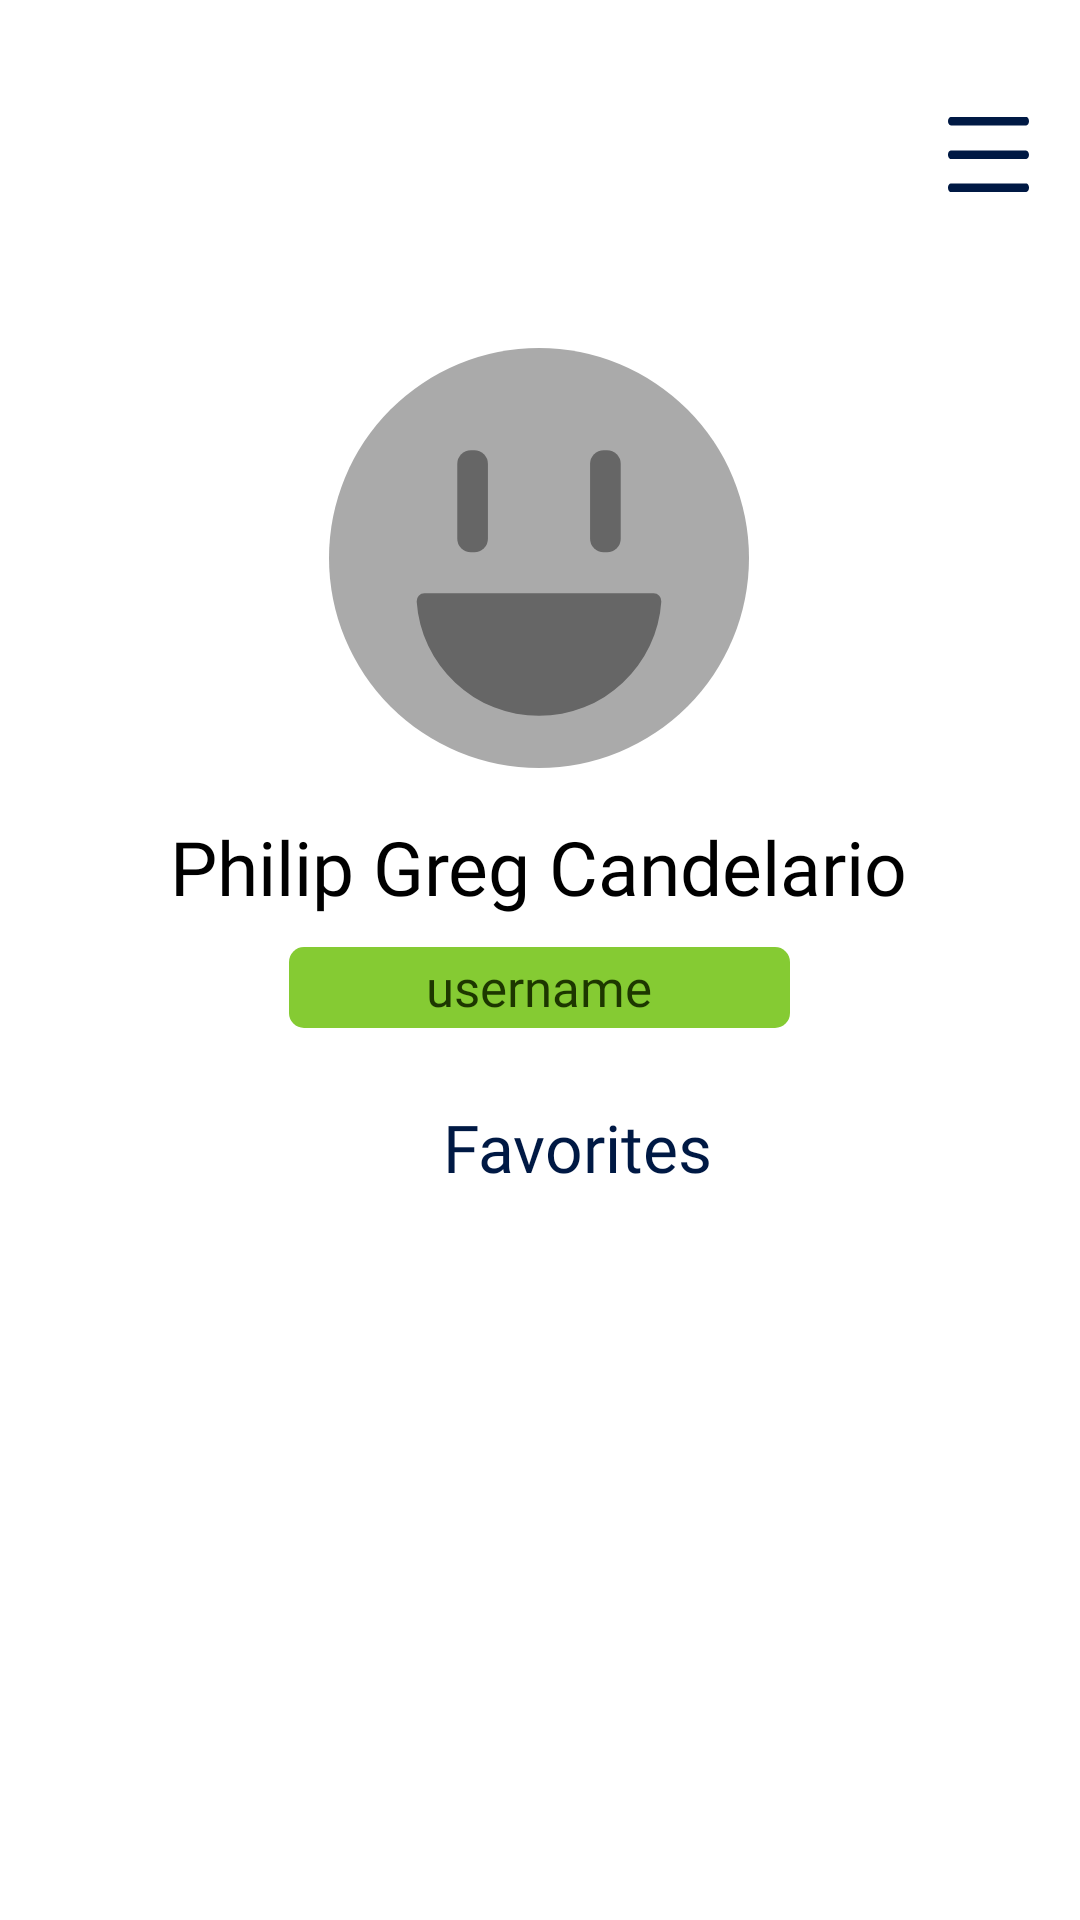

Where icons sit on this 1080×1920 app screen, as bbox(x1, y1, x2, y2):
menu: bbox(948, 117, 1029, 192)
